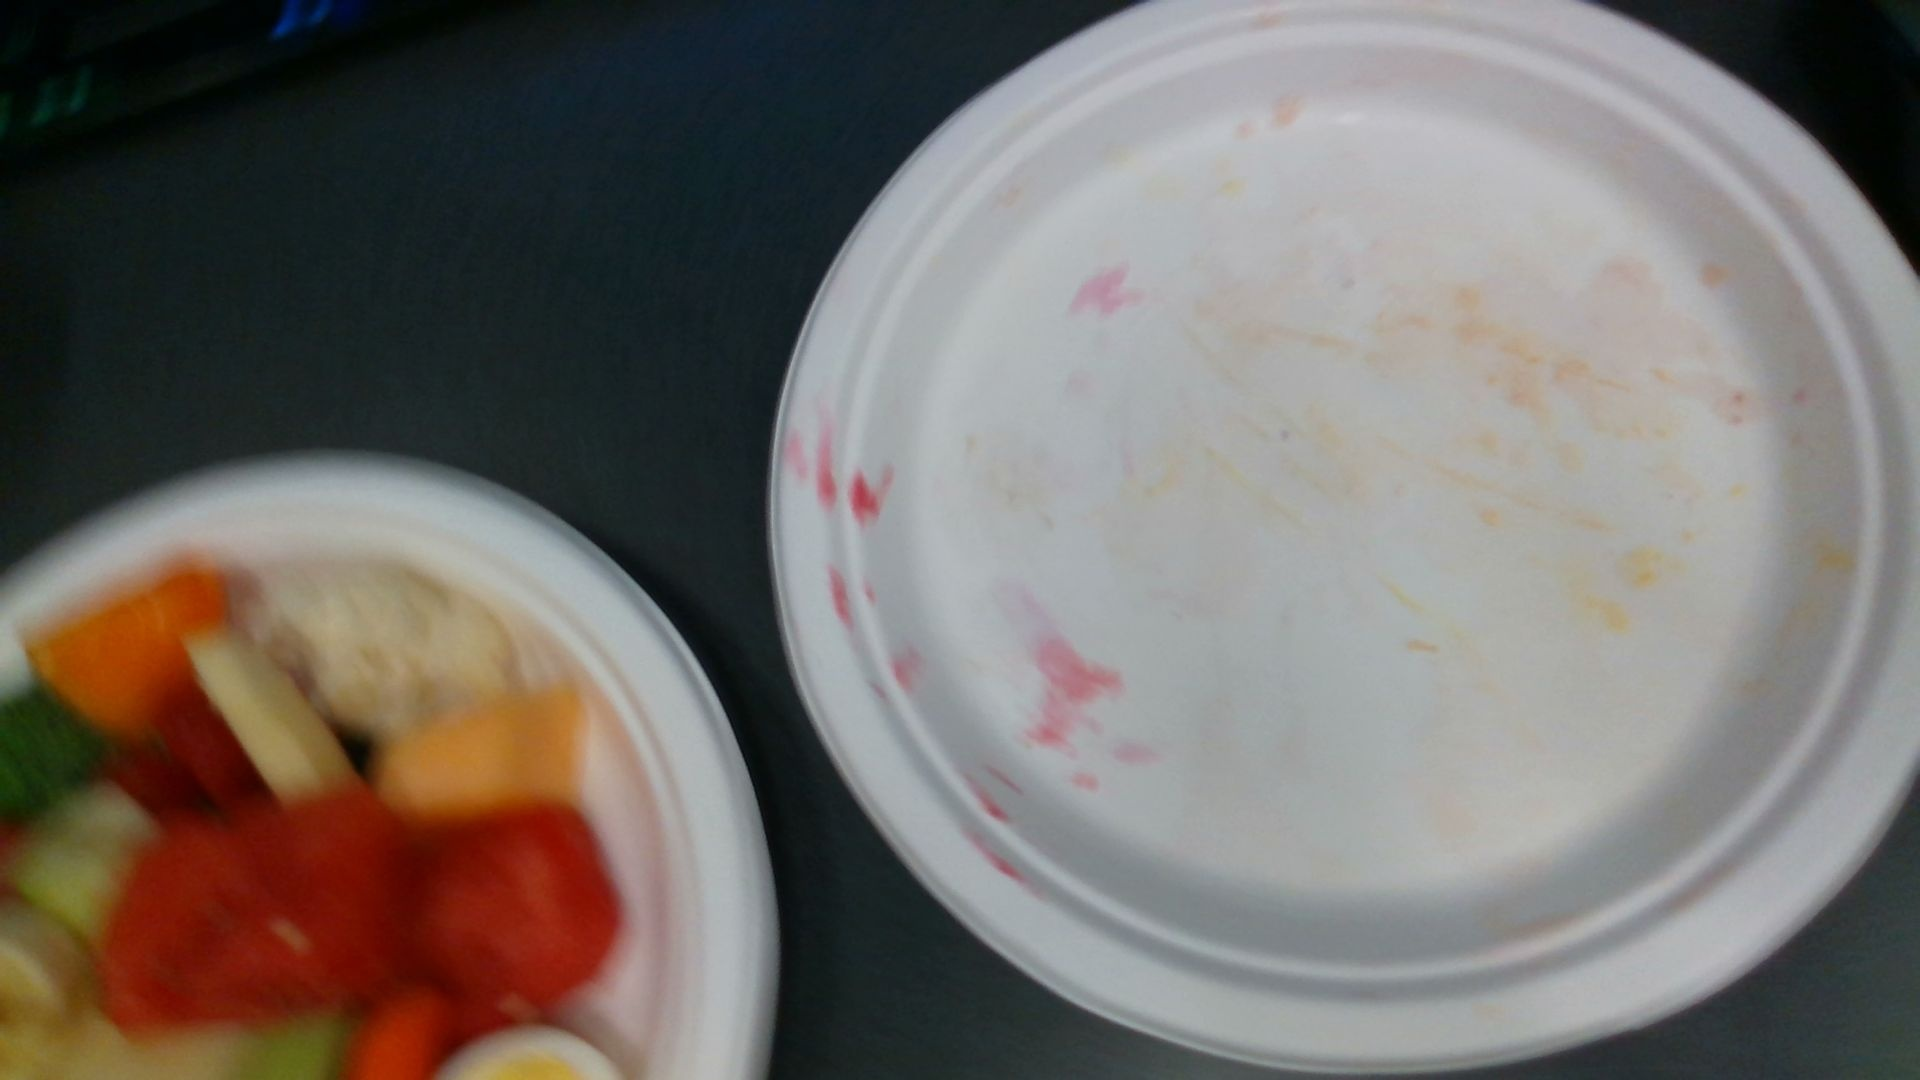apple: (187, 626, 357, 803)
cantalope: (385, 694, 580, 814)
cauliflower: (249, 564, 509, 733)
melon: (105, 803, 411, 1031), (411, 803, 622, 1021)
